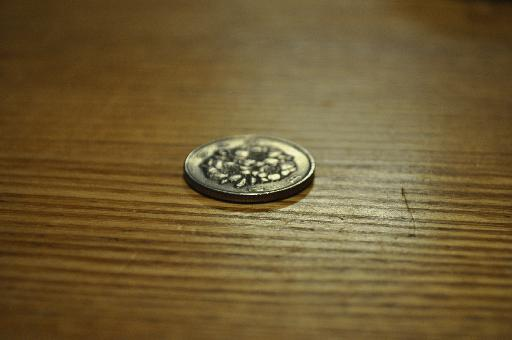100yen: (185, 136, 314, 202)
